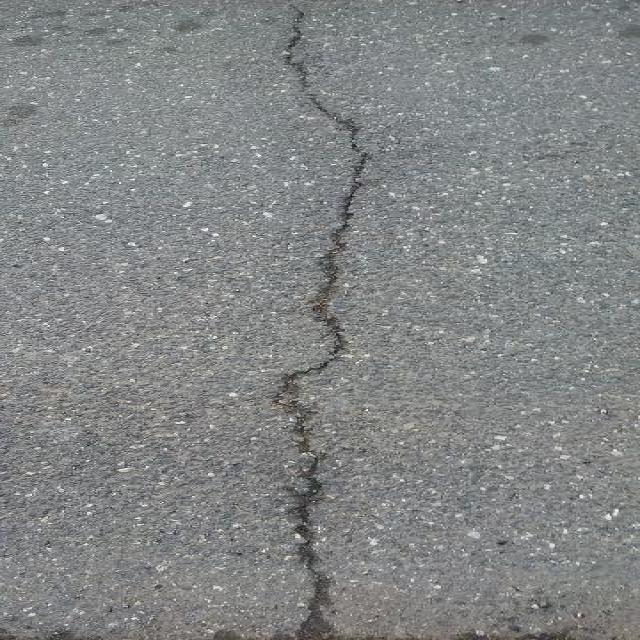Crack: (257, 0, 397, 640)
